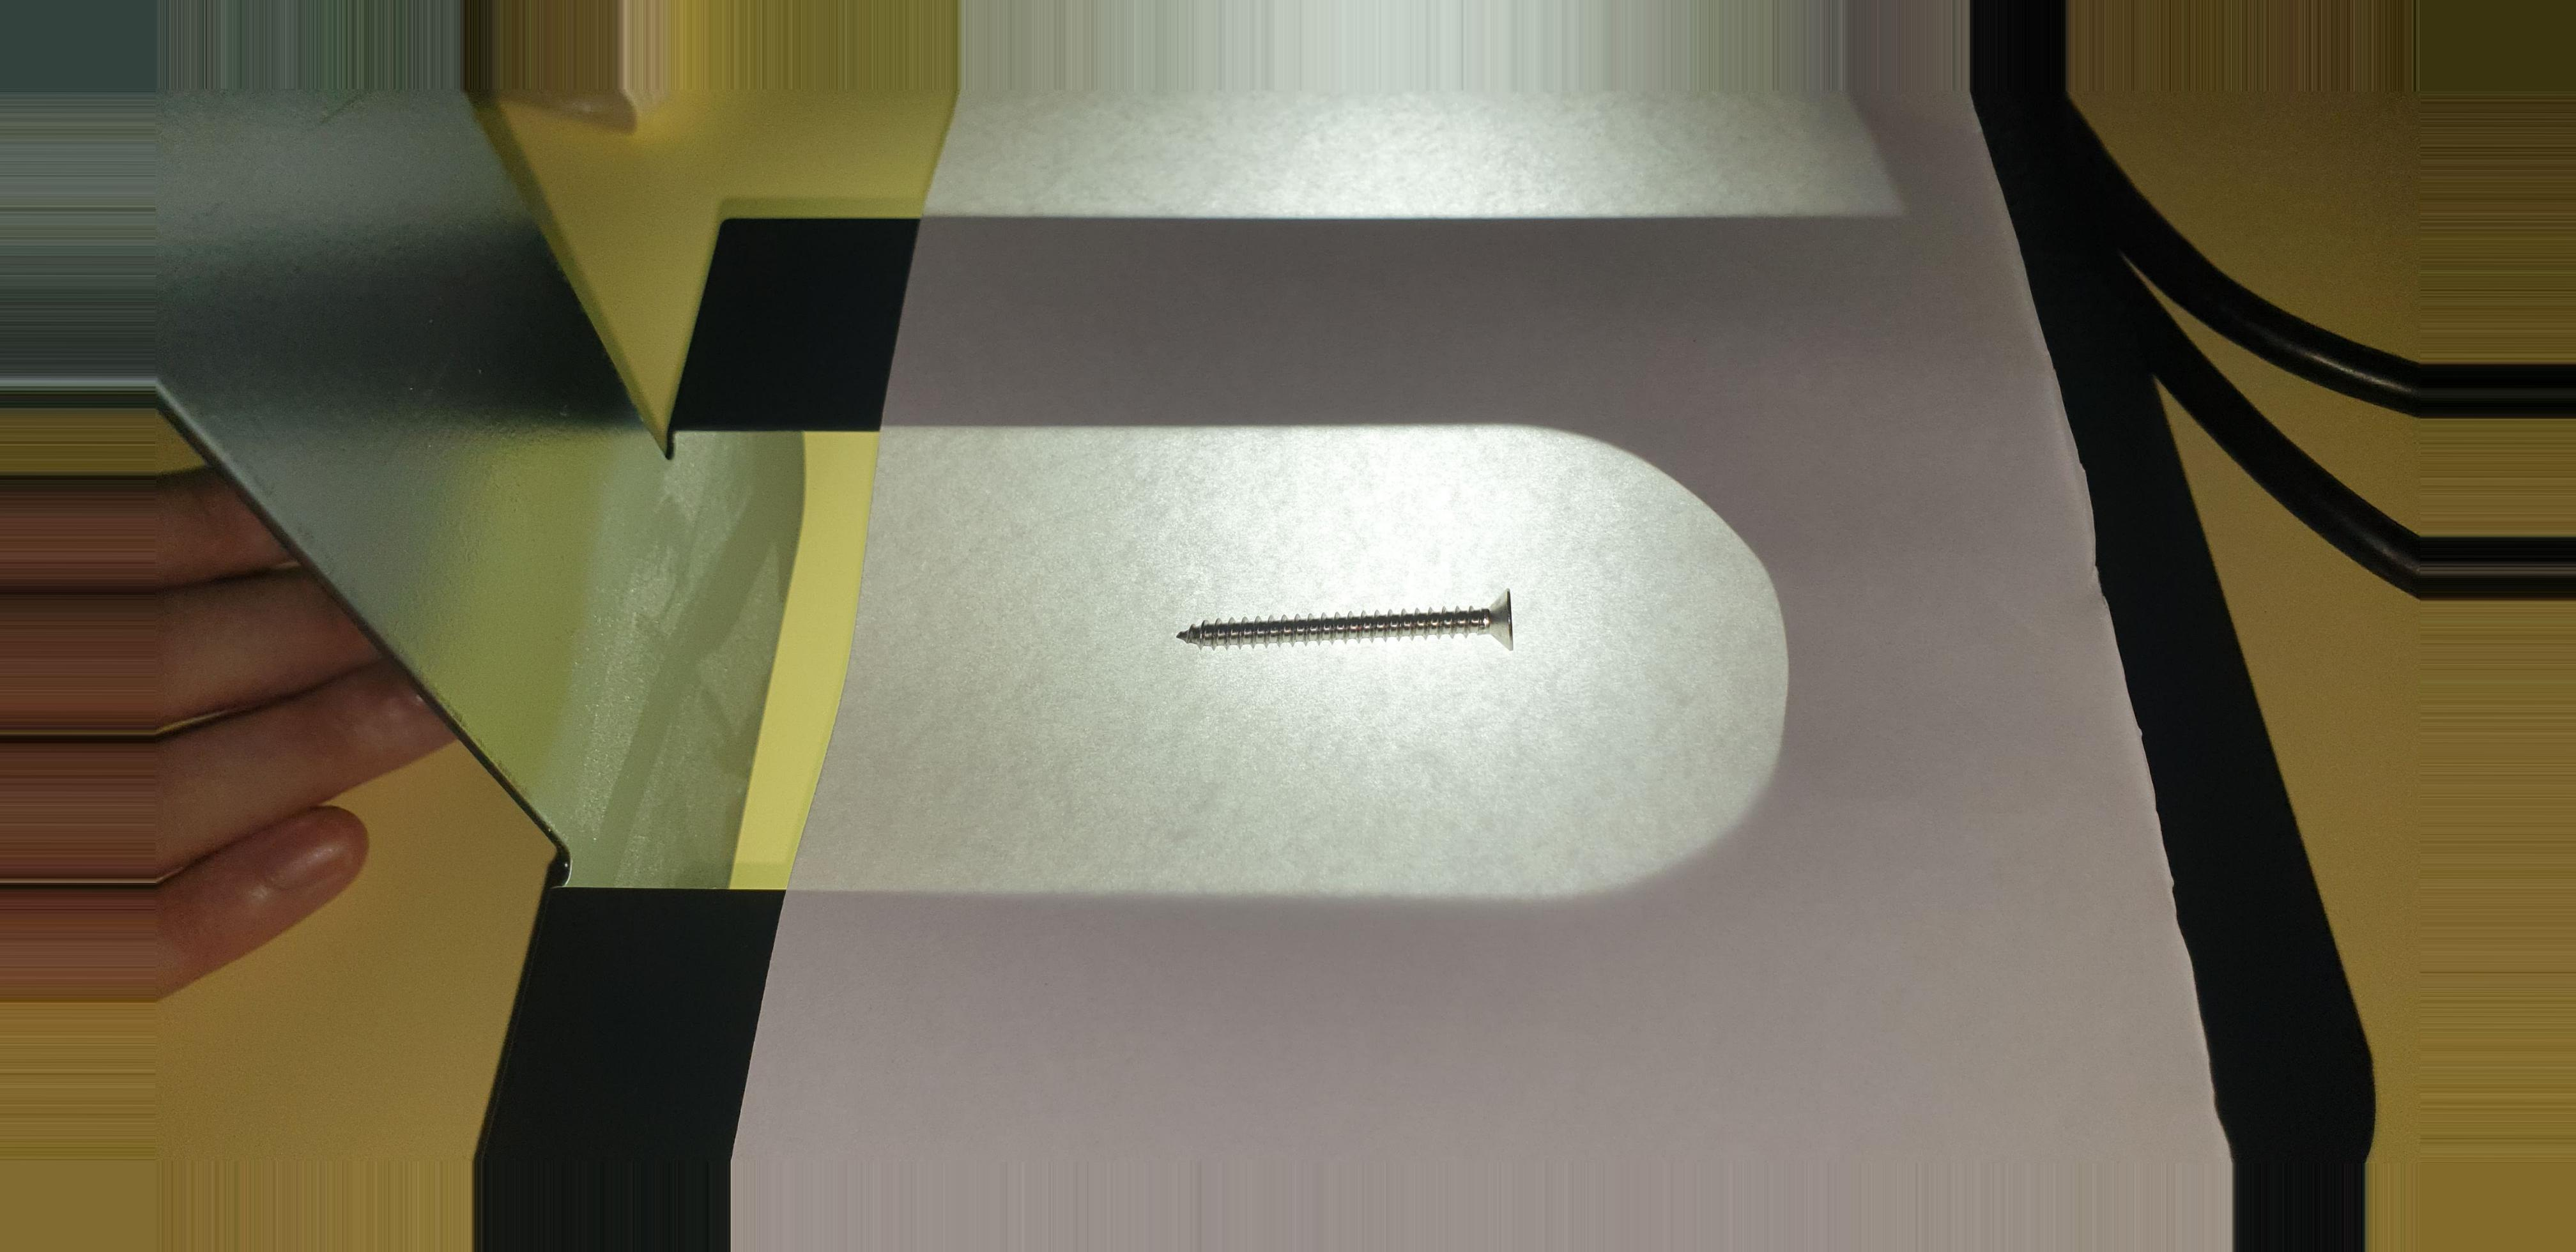fastener: (1147, 565, 1548, 680)
